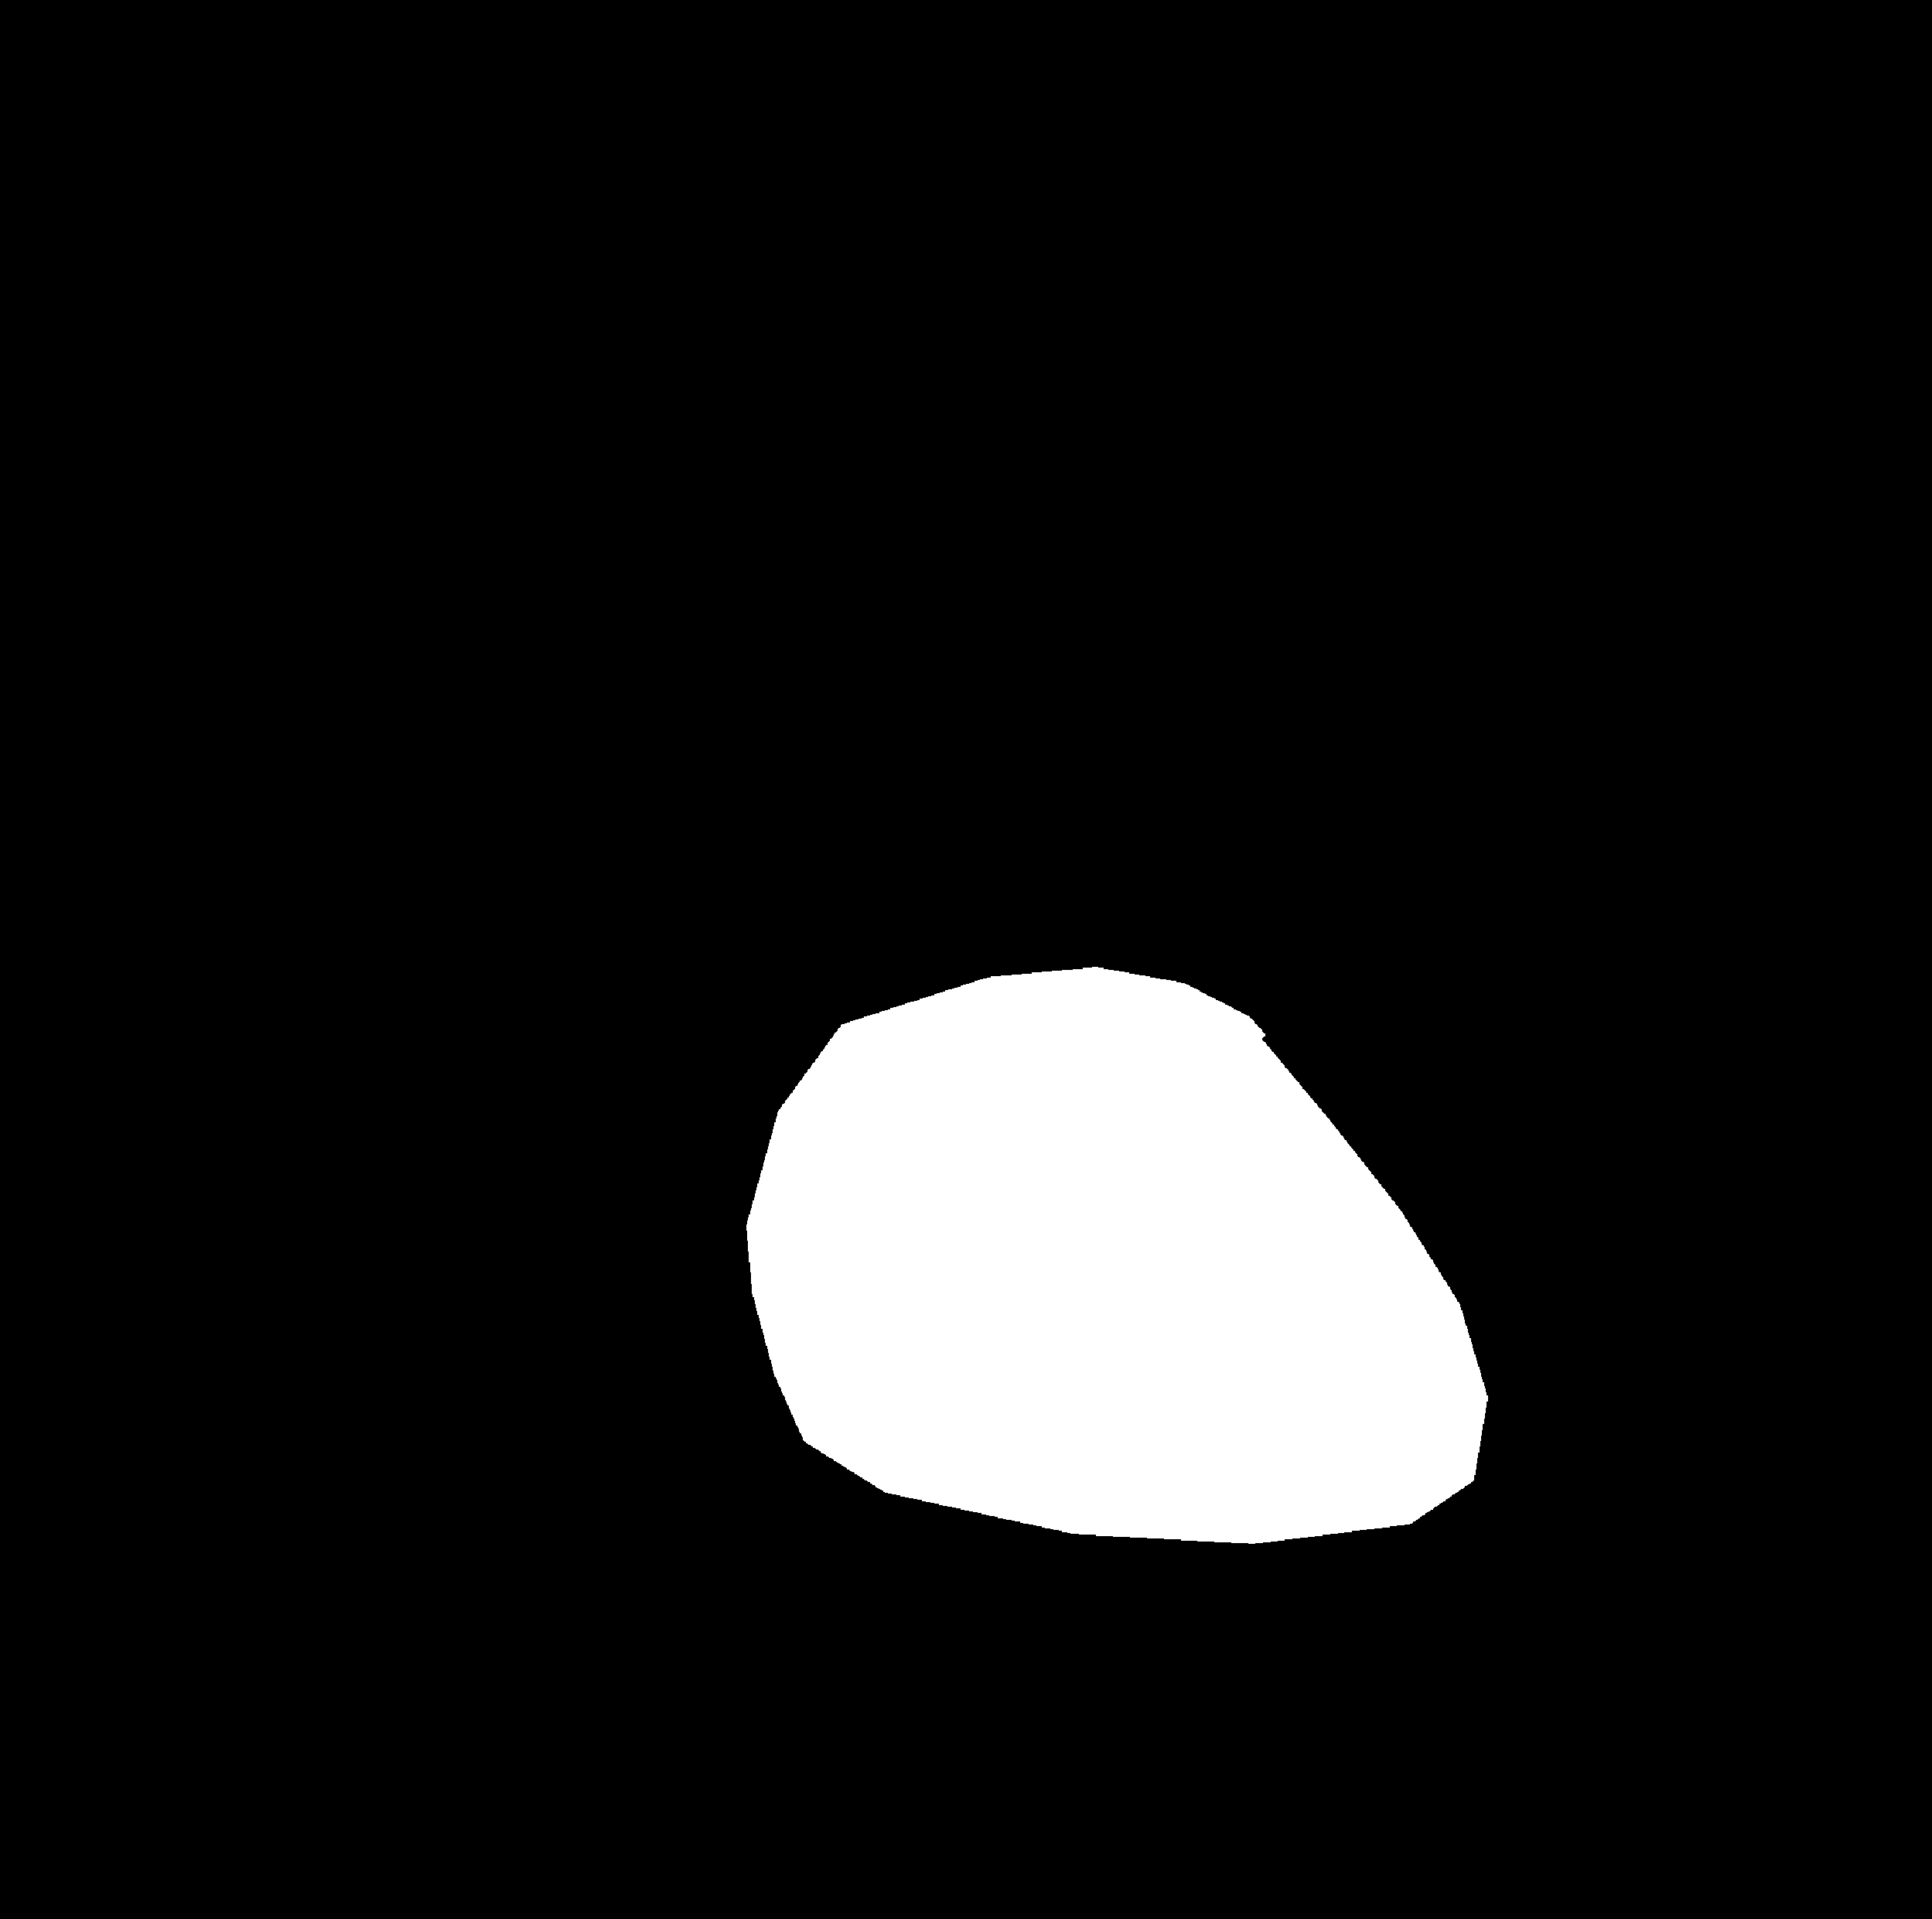heart: (740, 1060, 1482, 1576)
left_lung: (197, 230, 860, 1738)
right_lung: (1037, 230, 1728, 1708)
